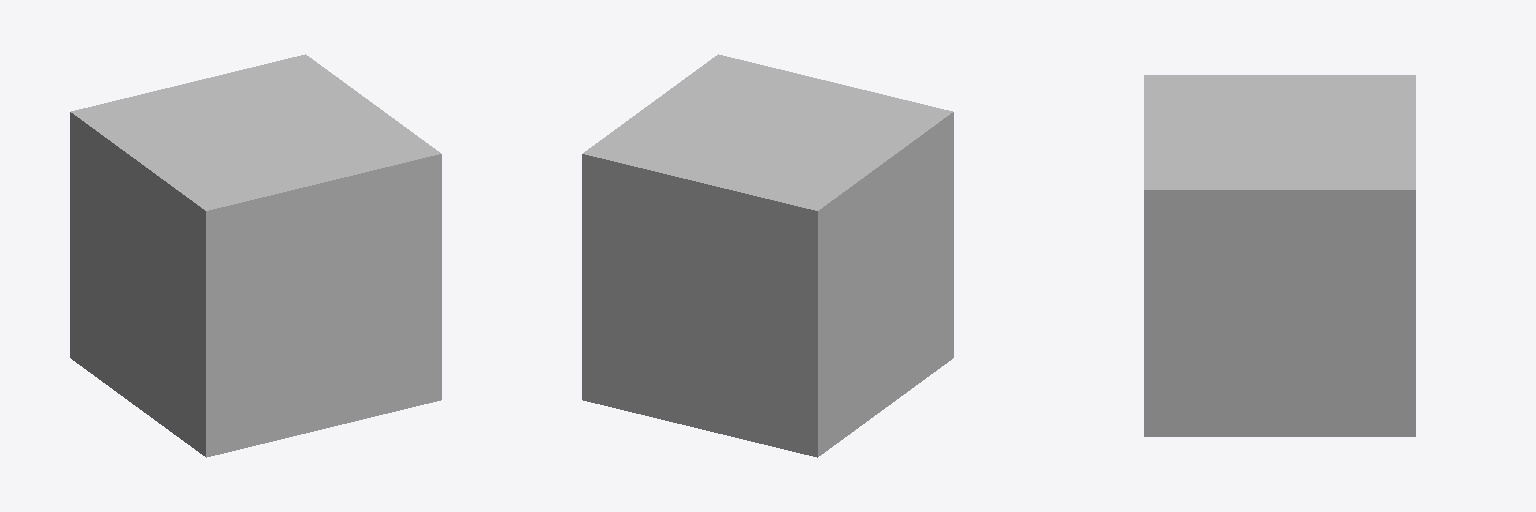
Rendered from check_double.obj.
3 views of the same model, side by side, from view 1: azimuth 30°, elevation 25°; view 2: azimuth 150°, elevation 25°; view 3: azimuth 270°, elevation 25° (orthographic).
Parts seen in each view (by area): view 1: pCube1; view 2: pCube1; view 3: pCube1.
Boxes of the visible parts, box(x1,y1,x2,y2) form: pCube1: box(70, 54, 441, 457); pCube1: box(582, 54, 953, 457); pCube1: box(1144, 75, 1415, 436).
Size of the model in its own units: 1 by 1 by 1.